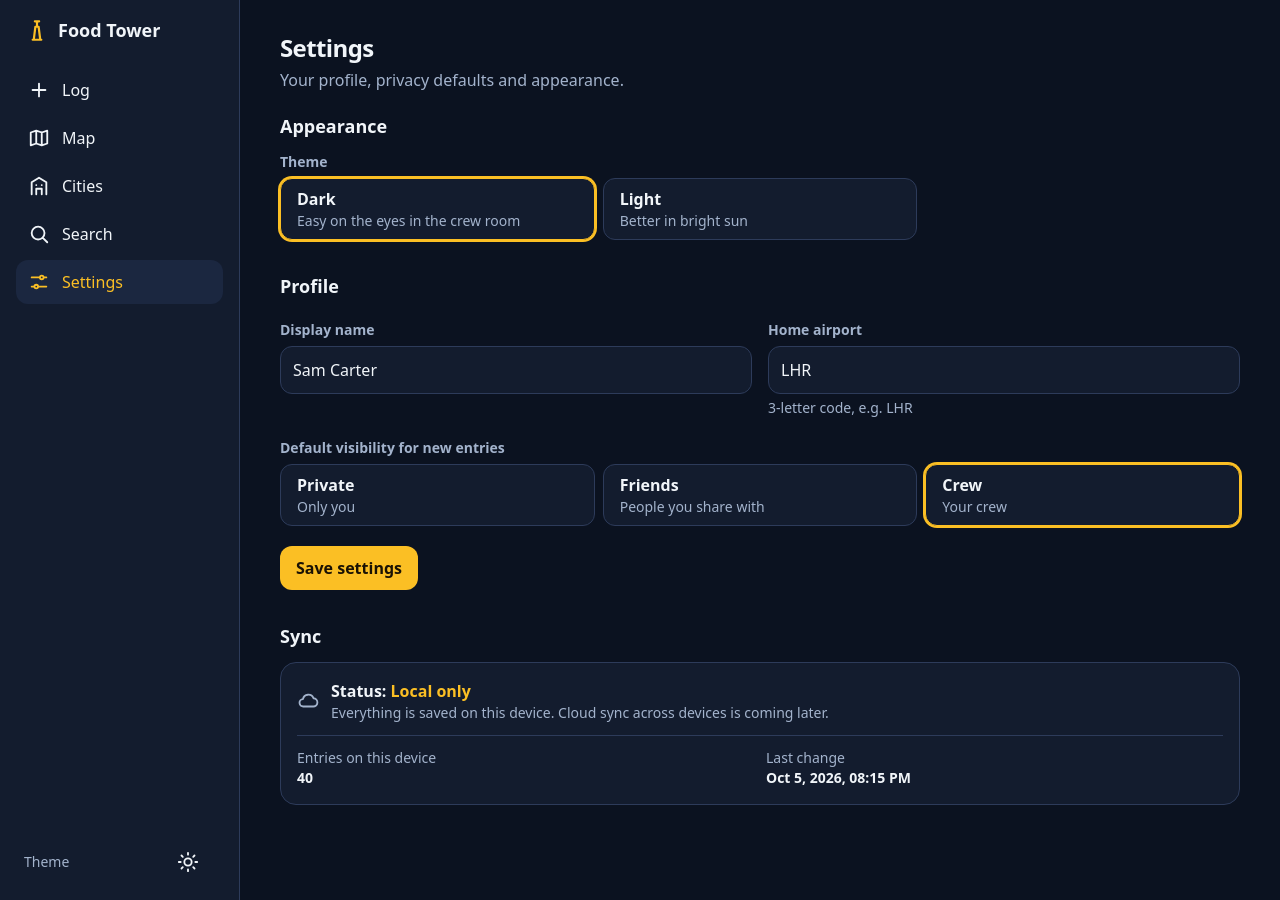
Test case: Settings › validates the airport code and name
expect the field labelled "Display name" is shown: met, box [280, 346, 752, 394]
Step 1. Replace the text in the field labelled "Home airport" with "LH" → (1004, 370), box [768, 346, 1240, 394]
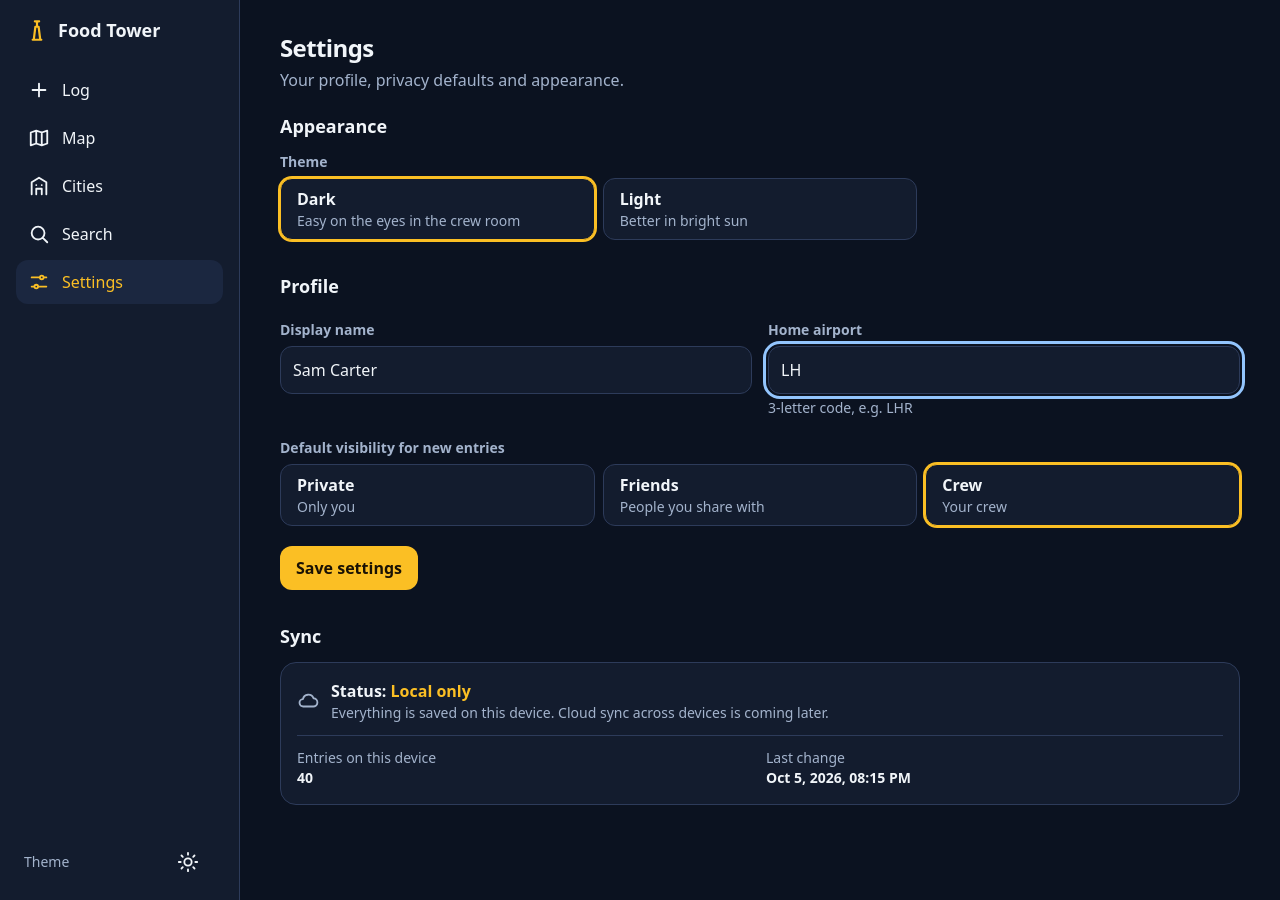
Step 2. Click the button "Save settings" → (349, 568), box [280, 546, 418, 590]
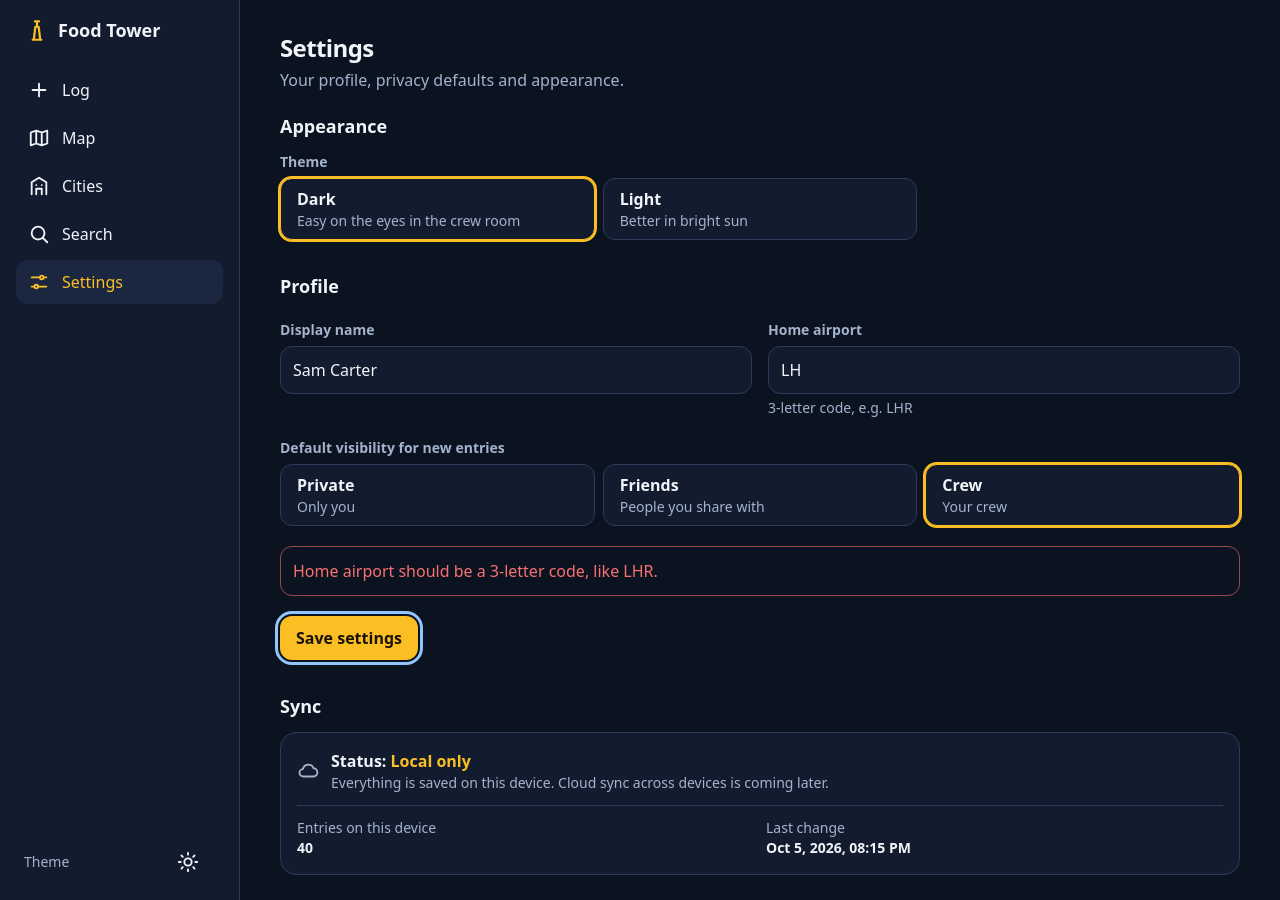
expect the message shows "3-letter code": met, box [293, 560, 658, 582]
Step 3. Clear the field labelled "Display name" → (516, 370), box [280, 346, 752, 394]
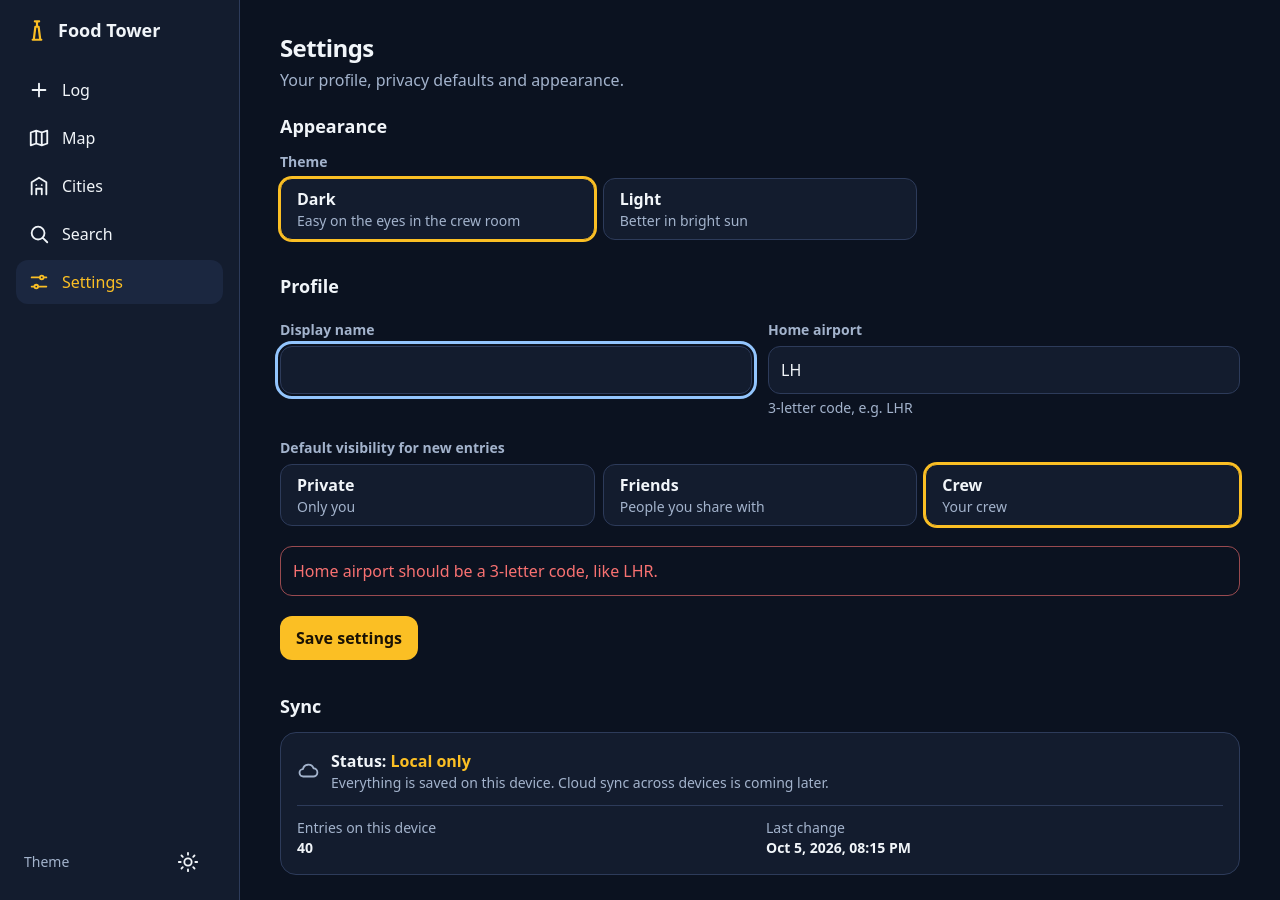
Step 4. Click the button "Save settings" → (349, 638), box [280, 616, 418, 660]
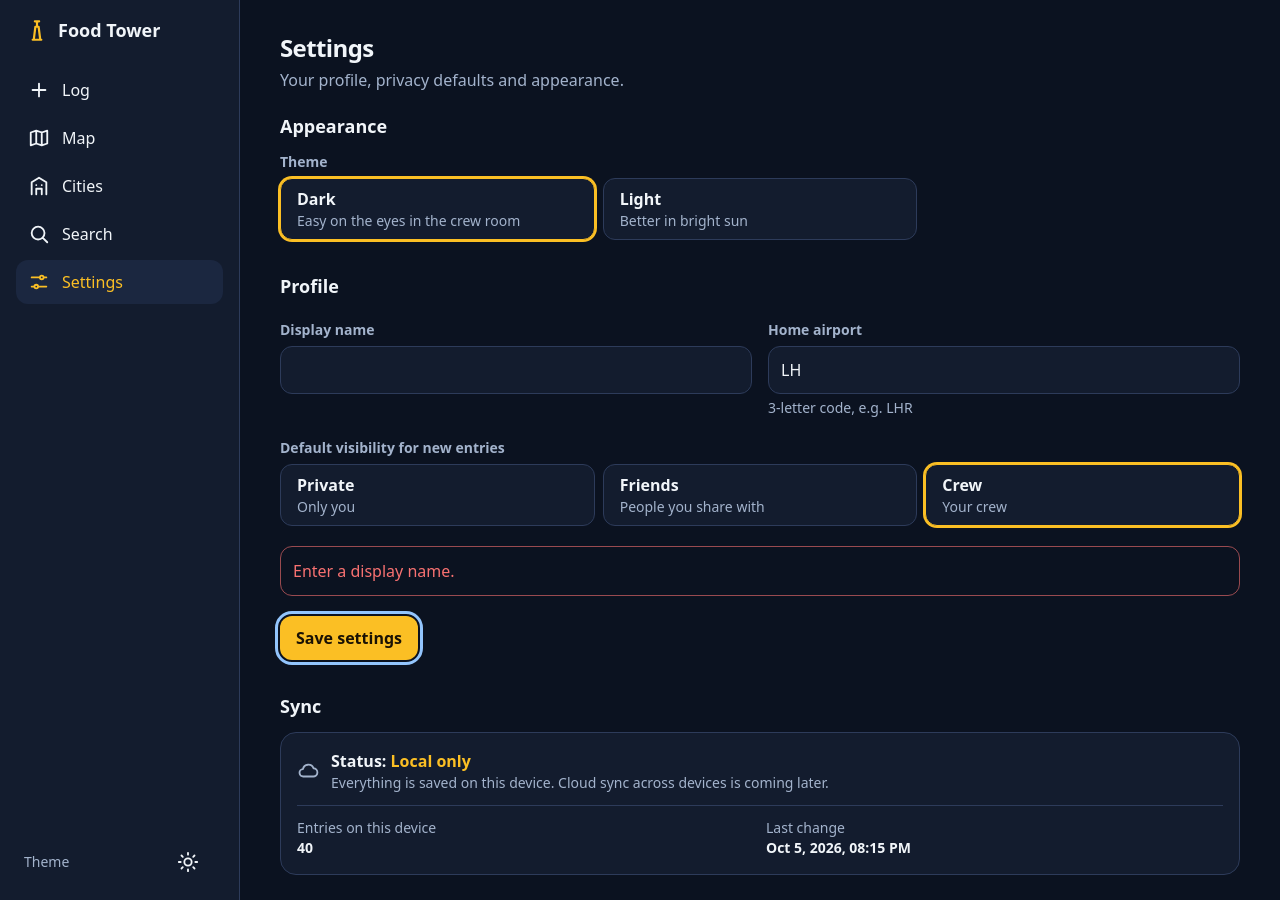
expect the message shows "display name": met, box [293, 560, 454, 582]
